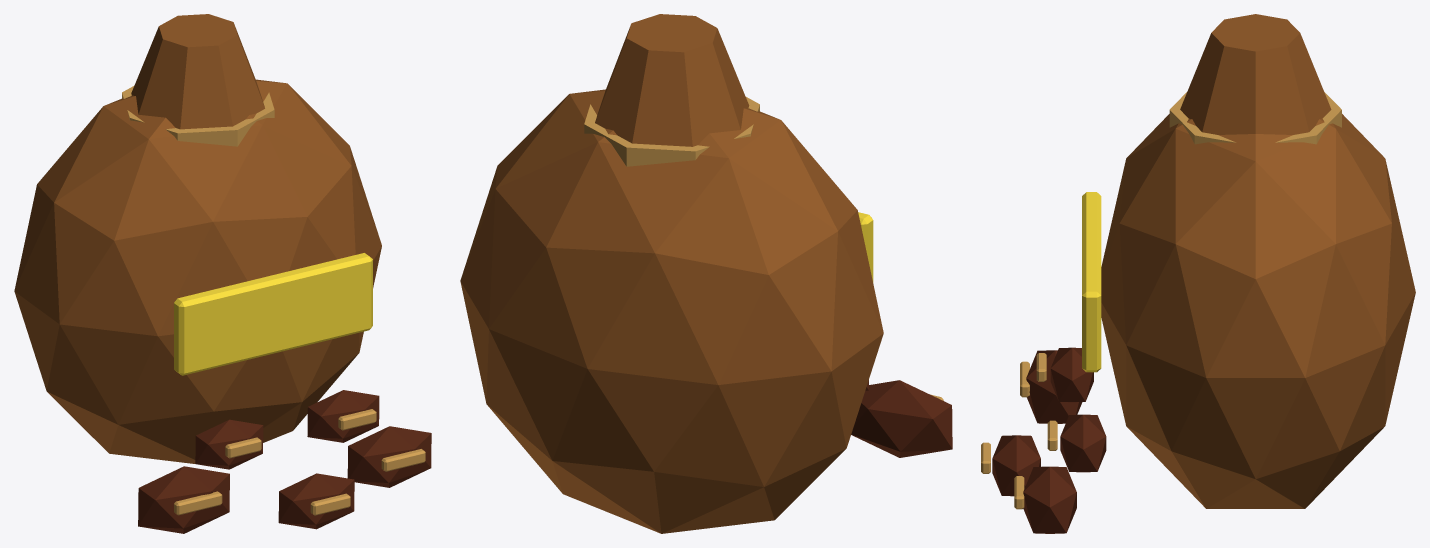
Rendered from coffee.glb.
3 views of the same model, side by side, from view 1: azimuth 30°, elevation 25°; view 2: azimuth 150°, elevation 25°; view 3: azimuth 270°, elevation 25° (orthographic). The views are drawn at different scales.
Parts seen in each view (by area): view 1: coffee-plump-sack, coffee-yellow-stencil-band, coffee-gathered-neck, coffee-spilled-bean-0, coffee-spilled-bean-1, coffee-spilled-bean-2, coffee-spilled-bean-4, coffee-spilled-bean-3, coffee-neck-rope, coffee-bean-cleft-0, coffee-bean-cleft-1, coffee-bean-cleft-2 (+2 smaller); view 2: coffee-plump-sack, coffee-gathered-neck, coffee-spilled-bean-0, coffee-neck-rope, coffee-yellow-stencil-band; view 3: coffee-plump-sack, coffee-gathered-neck, coffee-yellow-stencil-band, coffee-spilled-bean-1, coffee-spilled-bean-4, coffee-spilled-bean-2, coffee-spilled-bean-0, coffee-spilled-bean-3, coffee-neck-rope.
Boxes of the visible parts, bbox=[...] form: coffee-plump-sack: bbox=[14, 79, 381, 463]; coffee-yellow-stencil-band: bbox=[174, 253, 372, 375]; coffee-gathered-neck: bbox=[131, 14, 264, 129]; coffee-spilled-bean-0: bbox=[138, 466, 229, 533]; coffee-spilled-bean-1: bbox=[347, 426, 431, 487]; coffee-spilled-bean-2: bbox=[278, 473, 354, 529]; coffee-spilled-bean-4: bbox=[307, 390, 379, 442]; coffee-spilled-bean-3: bbox=[195, 419, 263, 469]; coffee-neck-rope: bbox=[122, 86, 274, 146]; coffee-bean-cleft-0: bbox=[174, 491, 222, 515]; coffee-bean-cleft-1: bbox=[381, 449, 425, 471]; coffee-bean-cleft-2: bbox=[310, 493, 350, 515]; coffee-plump-sack: bbox=[460, 89, 883, 533]; coffee-gathered-neck: bbox=[595, 14, 749, 146]; coffee-spilled-bean-0: bbox=[851, 380, 952, 457]; coffee-neck-rope: bbox=[584, 97, 759, 166]; coffee-yellow-stencil-band: bbox=[858, 212, 873, 282]; coffee-plump-sack: bbox=[1101, 114, 1415, 508]; coffee-gathered-neck: bbox=[1180, 14, 1331, 134]; coffee-yellow-stencil-band: bbox=[1082, 192, 1101, 372]; coffee-spilled-bean-1: bbox=[1023, 466, 1076, 533]; coffee-spilled-bean-4: bbox=[1060, 414, 1106, 472]; coffee-spilled-bean-2: bbox=[992, 435, 1040, 496]; coffee-spilled-bean-0: bbox=[1026, 350, 1082, 423]; coffee-spilled-bean-3: bbox=[1050, 347, 1093, 402]; coffee-neck-rope: bbox=[1169, 92, 1341, 144].
Size of the model in its own units: 0.7845 by 1 by 0.84.
